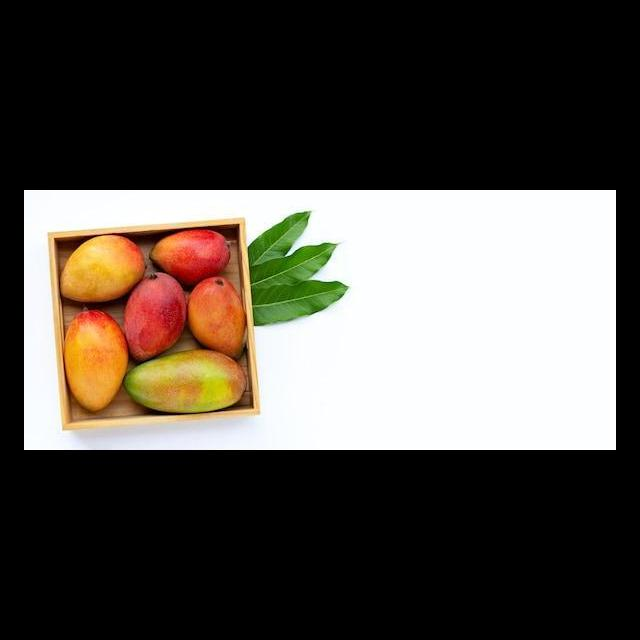mango: (123, 350, 247, 413), (64, 310, 128, 411), (123, 272, 187, 361), (60, 235, 145, 302), (188, 279, 246, 358), (150, 230, 230, 285)
